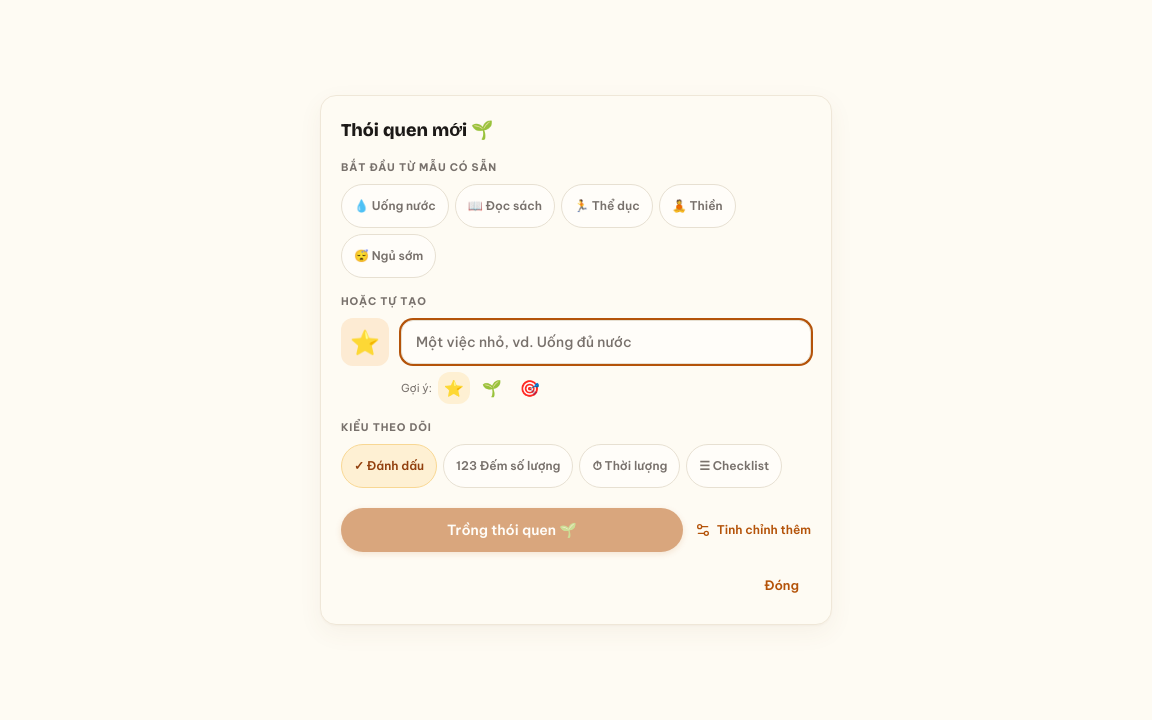
HabitEditorSheet — quick create › suggests an icon from the name being typed
Type "Chạy bộ buổi sáng" into the field named "Tên thói quen".
click(606, 342); type("Chạy bộ buổi sáng")  # box top-left (401, 320), bottom-right (811, 364)
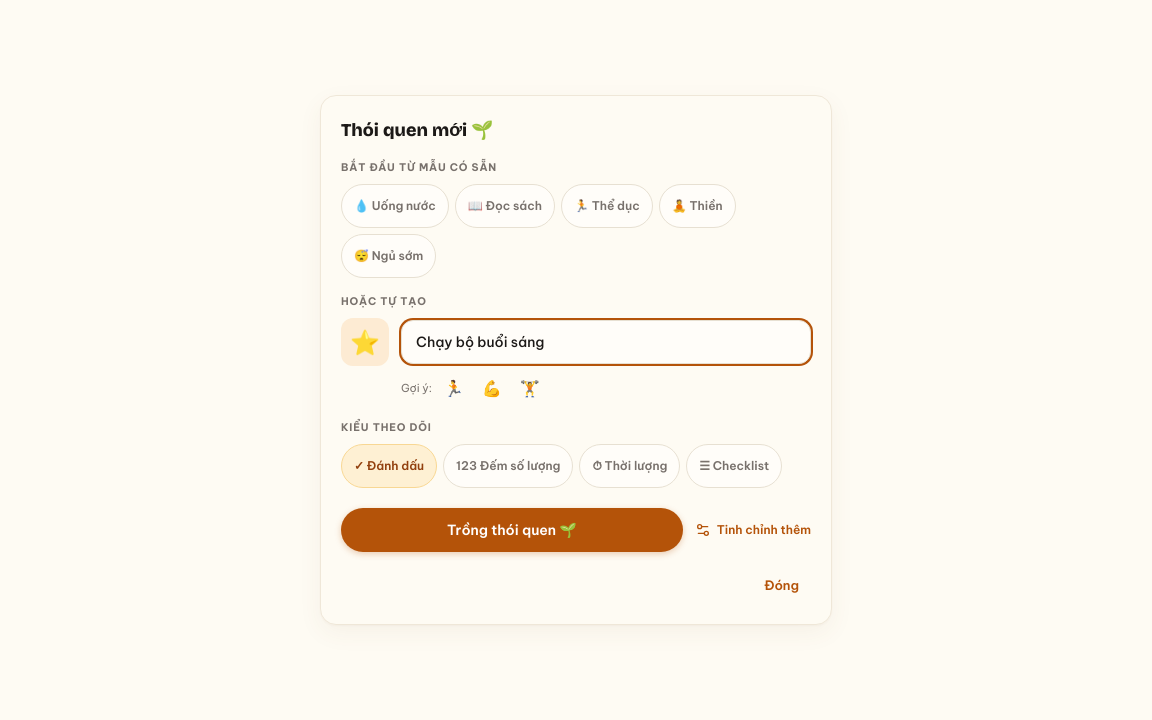
Expected: the button "🏃" is shown, top-left (438, 372), bottom-right (470, 404)
